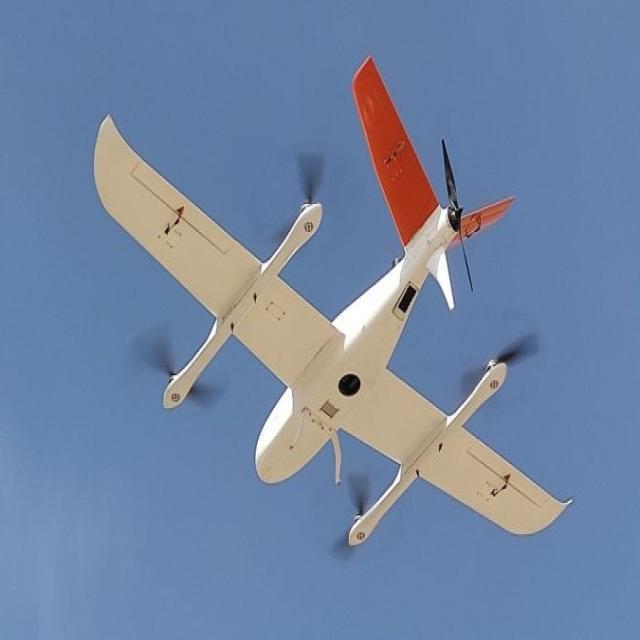iha: (85, 54, 565, 581)
